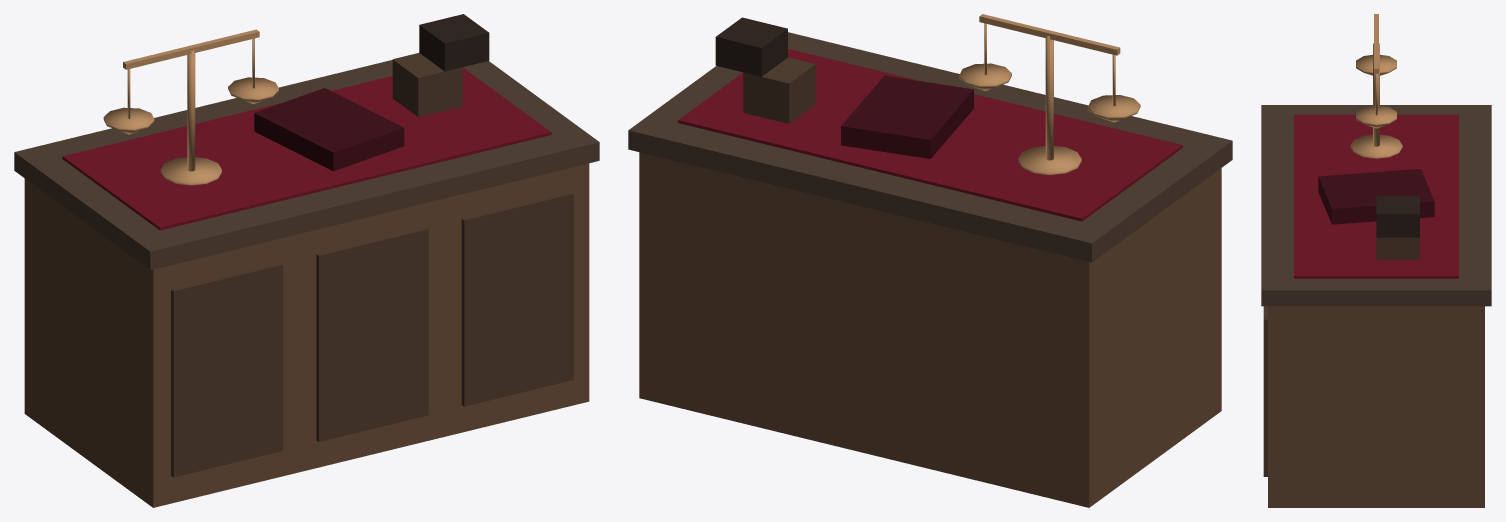
The model's file is shop_counter.glb.
3 views of the same model, side by side, from view 1: azimuth 30°, elevation 25°; view 2: azimuth 150°, elevation 25°; view 3: azimuth 270°, elevation 25° (orthographic). The views are drawn at different scales.
Parts seen in each view (by area): view 1: shop_counter; view 2: shop_counter; view 3: shop_counter.
Part boxes in pixels (x1,y1,x2,y2): shop_counter: [14, 14, 599, 507]; shop_counter: [628, 14, 1232, 507]; shop_counter: [1261, 14, 1491, 507].
Size of the model in its own units: 1.01 by 0.836 by 0.53.
